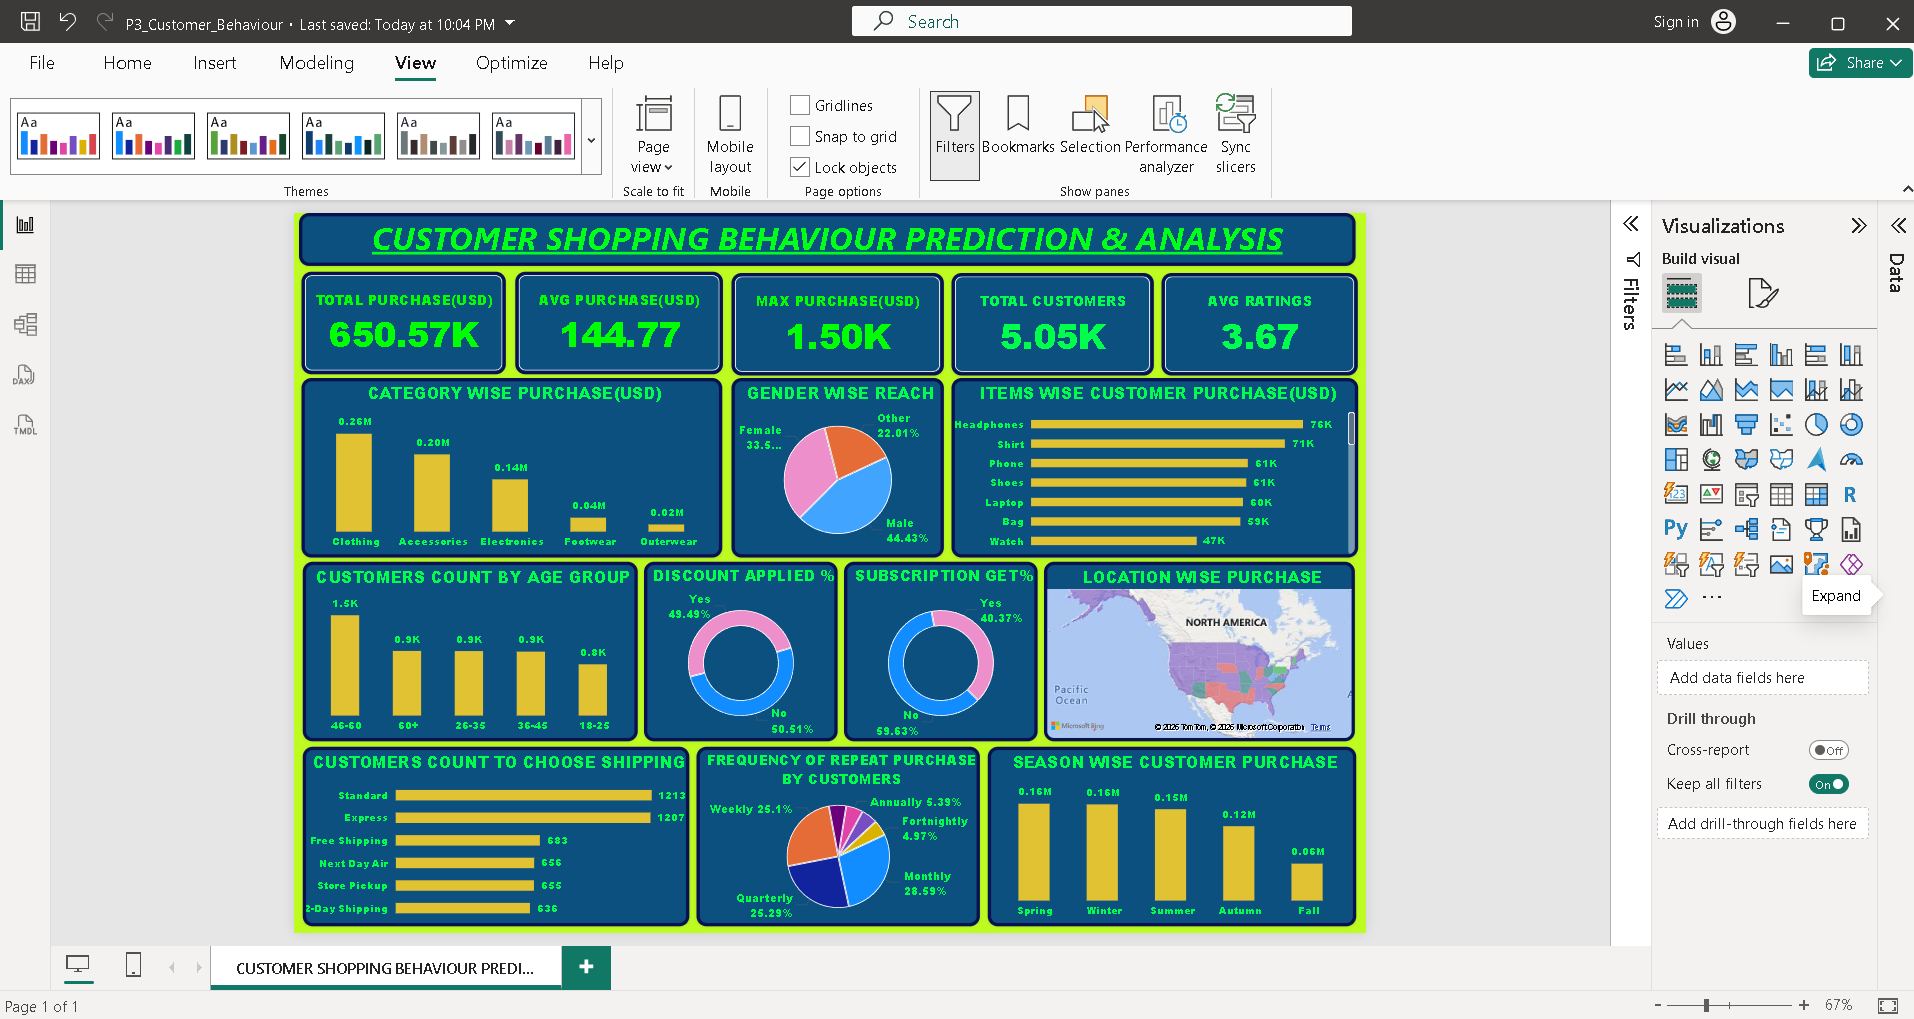

The page's visual inventory and layout, read from the dashboard file:
{"tool":"powerbi","page":{"name":"CUSTOMER SHOPPING BEHAVIOUR PREDICTION AND ANALYSIS","canvas":[1280,860],"ordinal":0},"visuals":[{"type":"textbox","box":[5.7,0,1261.4,62.9],"z":0},{"type":"cardVisual","fields":{"Data":["Sum(customer_shopping_behavior.Purchase Amount (USD))"]},"box":[9.6,70,244.3,122.1],"z":1},{"type":"cardVisual","fields":{"Data":["Avg(customer_shopping_behavior.Purchase Amount (USD))"]},"box":[263.5,70,248.4,122.1],"z":2},{"type":"cardVisual","fields":{"Data":["Max(customer_shopping_behavior.Purchase Amount (USD))"]},"box":[522.8,71.4,253.9,122.1],"z":3},{"type":"cardVisual","fields":{"Data":["CountNonNull(customer_shopping_behavior.Customer ID)"]},"box":[784.9,71.4,241.5,122.1],"z":4},{"type":"cardVisual","fields":{"Data":["Avg(customer_shopping_behavior.Review Rating)"]},"box":[1036,71.4,234.6,122.1],"z":5},{"type":"clusteredColumnChart","title":"CATEGORY WISE PURCHASE(USD)","fields":{"Category":["customer_shopping_behavior.Category"],"Y":["Sum(customer_shopping_behavior.Purchase Amount (USD))"]},"box":[9.6,197.6,502.2,214.1],"z":6},{"type":"barChart","title":"ITEMS WISE CUSTOMER PURCHASE(USD)","fields":{"Category":["customer_shopping_behavior.Item Purchased"],"Y":["Sum(customer_shopping_behavior.Purchase Amount (USD))"]},"box":[784.9,197.6,485.8,214.1],"z":7},{"type":"pieChart","title":"GENDER WISE REACH","fields":{"Category":["customer_shopping_behavior.Gender"],"Y":["Sum(customer_shopping_behavior.Purchase Amount (USD))"]},"box":[522.8,197.6,253.9,214.1],"z":8},{"type":"columnChart","title":"CUSTOMERS COUNT BY AGE GROUP","fields":{"Category":["customer_shopping_behavior.Age Group"],"Y":["CountNonNull(customer_shopping_behavior.Customer ID)"]},"box":[10,417.1,400,214.3],"z":9},{"type":"filledMap","title":"LOCATION WISE PURCHASE","fields":{"Category":["customer_shopping_behavior.Location"],"Series":["customer_shopping_behavior.Purchase Amount (USD)"]},"box":[895.7,417.1,371.4,214.3],"z":10},{"type":"donutChart","title":"DISCOUNT APPLIED %","fields":{"Category":["customer_shopping_behavior.Discount Applied"],"Y":["Sum(customer_shopping_behavior.Purchase Amount (USD))"]},"box":[418.6,417.1,231.4,214.3],"z":11},{"type":"columnChart","title":"SEASON WISE CUSTOMER PURCHASE","fields":{"Category":["customer_shopping_behavior.Season"],"Y":["Sum(customer_shopping_behavior.Purchase Amount (USD))"]},"box":[828.6,637.1,440,214.3],"z":12},{"type":"clusteredBarChart","title":"CUSTOMERS COUNT TO CHOOSE SHIPPING","fields":{"Category":["customer_shopping_behavior.Shipping Type"],"Y":["CountNonNull(customer_shopping_behavior.Customer ID)"]},"box":[10,637.1,461.4,214.3],"z":13},{"type":"pieChart","title":"FREQUENCY OF REPEAT PURCHASE BY CUSTOMERS","fields":{"Category":["customer_shopping_behavior.Frequency of Purchases"],"Y":["Sum(customer_shopping_behavior.Purchase Amount (USD))"]},"box":[480,637.1,338.6,214.3],"z":14},{"type":"donutChart","title":"SUBSCRIPTION GET%","fields":{"Category":["customer_shopping_behavior.Subscription Status"],"Y":["Sum(customer_shopping_behavior.Purchase Amount (USD))"]},"box":[657.1,417.1,231.4,214.3],"z":15}]}

Visuals, with their boxes on the page's 1280x860 design canvas (x1, y1, x2, y2). These are canvas units, not pixel positions in the 1914x1019 screenshot, which may show the page scaled, cropped or inside an application window:
textbox: BBox(6, 0, 1267, 63)
cardVisual - Sum(customer_shopping_behavior.Purchase Amount (USD)): BBox(10, 70, 254, 192)
cardVisual - Avg(customer_shopping_behavior.Purchase Amount (USD)): BBox(264, 70, 512, 192)
cardVisual - Max(customer_shopping_behavior.Purchase Amount (USD)): BBox(523, 71, 777, 194)
cardVisual - CountNonNull(customer_shopping_behavior.Customer ID): BBox(785, 71, 1026, 194)
cardVisual - Avg(customer_shopping_behavior.Review Rating): BBox(1036, 71, 1271, 194)
"CATEGORY WISE PURCHASE(USD)" clusteredColumnChart: BBox(10, 198, 512, 412)
"ITEMS WISE CUSTOMER PURCHASE(USD)" barChart: BBox(785, 198, 1271, 412)
"GENDER WISE REACH" pieChart: BBox(523, 198, 777, 412)
"CUSTOMERS COUNT BY AGE GROUP" columnChart: BBox(10, 417, 410, 631)
"LOCATION WISE PURCHASE" filledMap: BBox(896, 417, 1267, 631)
"DISCOUNT APPLIED %" donutChart: BBox(419, 417, 650, 631)
"SEASON WISE CUSTOMER PURCHASE" columnChart: BBox(829, 637, 1269, 851)
"CUSTOMERS COUNT TO CHOOSE SHIPPING" clusteredBarChart: BBox(10, 637, 471, 851)
"FREQUENCY OF REPEAT PURCHASE BY CUSTOMERS" pieChart: BBox(480, 637, 819, 851)
"SUBSCRIPTION GET%" donutChart: BBox(657, 417, 888, 631)
